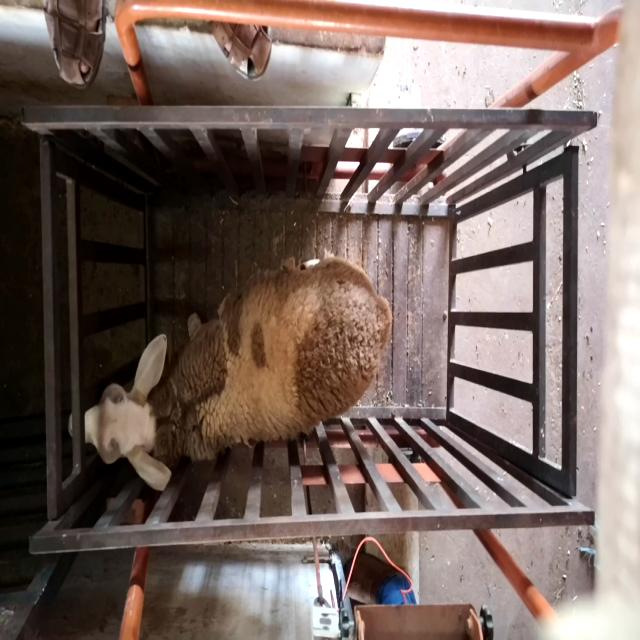sheep: (68, 256, 394, 491)
